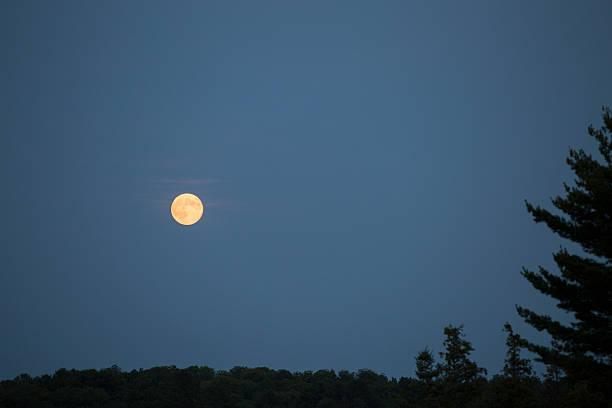moon: (166, 186, 205, 226)
